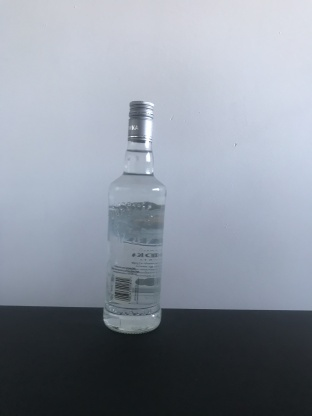nakretka: (126, 98, 155, 143)
